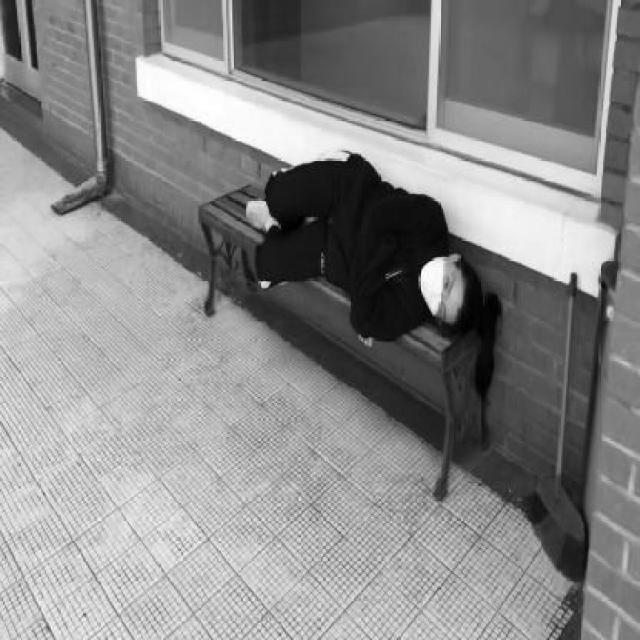person: (246, 152, 472, 354)
